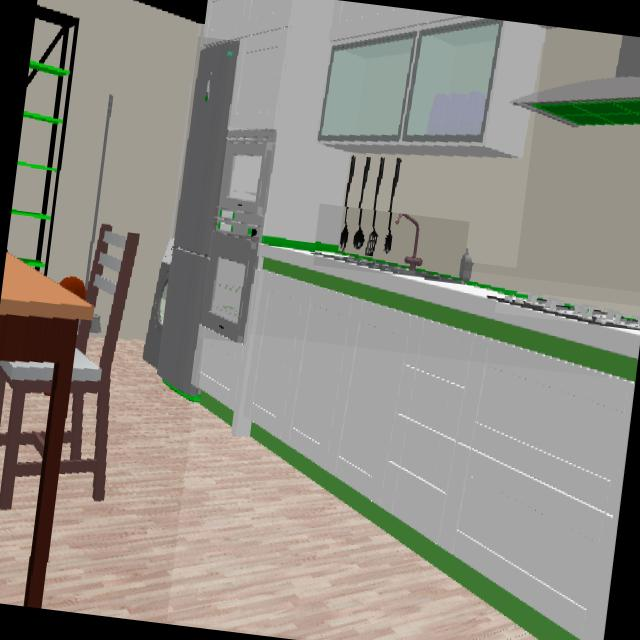cabinet: (195, 272, 634, 640), (202, 0, 544, 245)
countertop: (260, 247, 640, 380)
fridge: (157, 41, 239, 393)
microwave: (217, 130, 276, 241)
oven: (201, 232, 256, 342)
sink: (315, 214, 462, 283)
stove: (496, 293, 640, 330)
